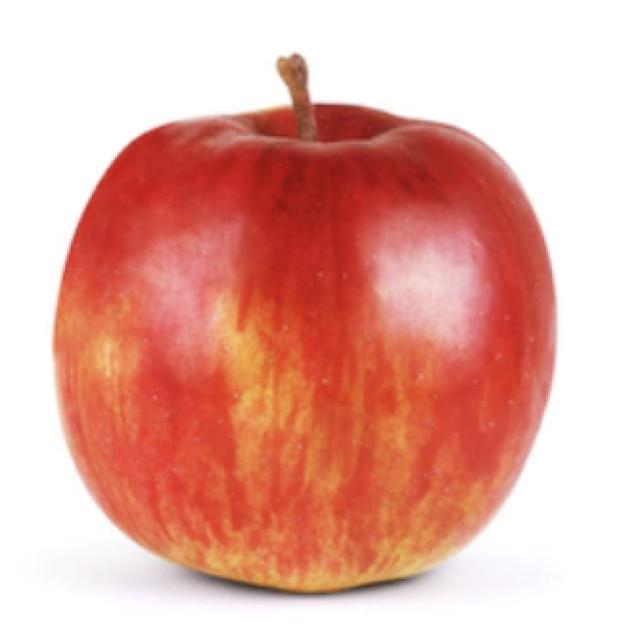Fresh Apple: (46, 105, 556, 598)
